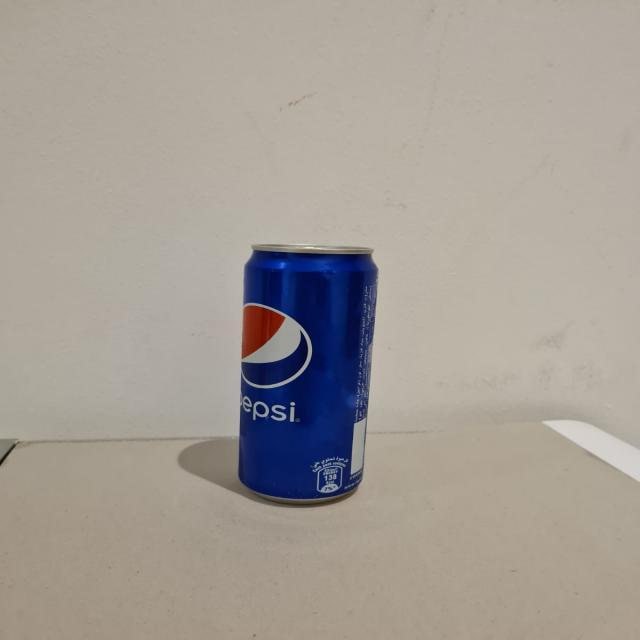can: (235, 239, 380, 504)
